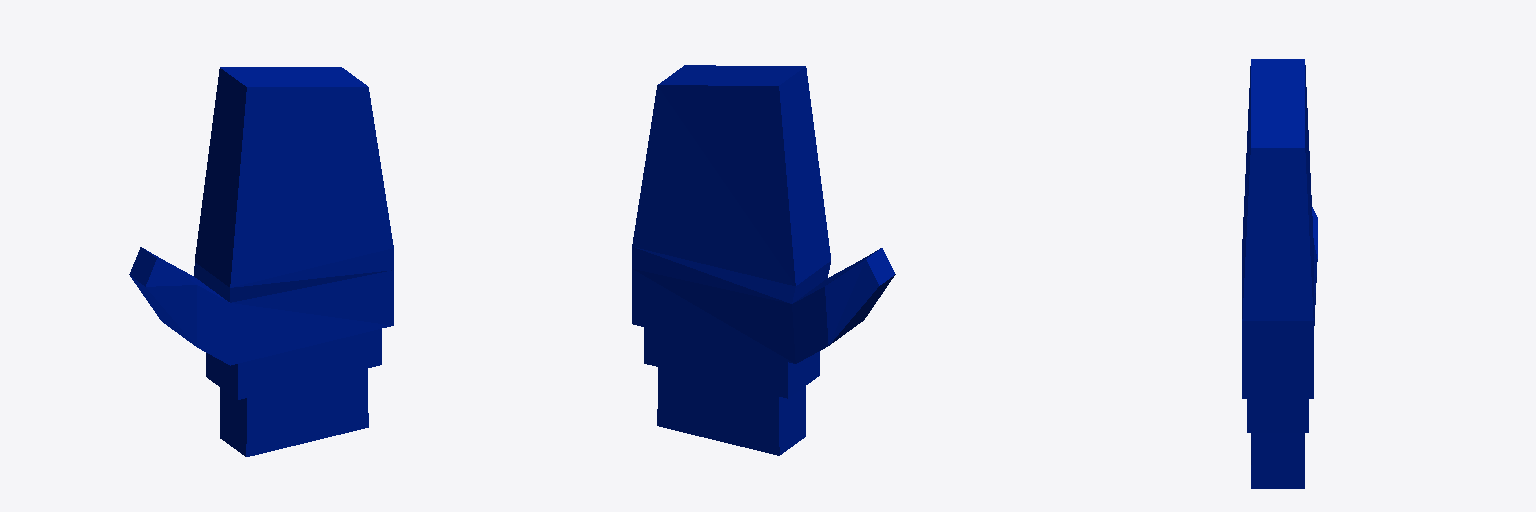
Rendered from righthand.obj.
The picture shows the model from 3 angles: view 1: azimuth 30°, elevation 25°; view 2: azimuth 150°, elevation 25°; view 3: azimuth 270°, elevation 25°; orthographic projection.
Parts seen in each view (by area): view 1: Cube.001; view 2: Cube.001; view 3: Cube.001.
Boxes of the visible parts, box(x1,y1,x2,y2) form: Cube.001: box(129, 67, 393, 456); Cube.001: box(632, 65, 895, 455); Cube.001: box(1242, 59, 1317, 488).
Size of the model in its own units: 4.78 by 7.1 by 1.31.